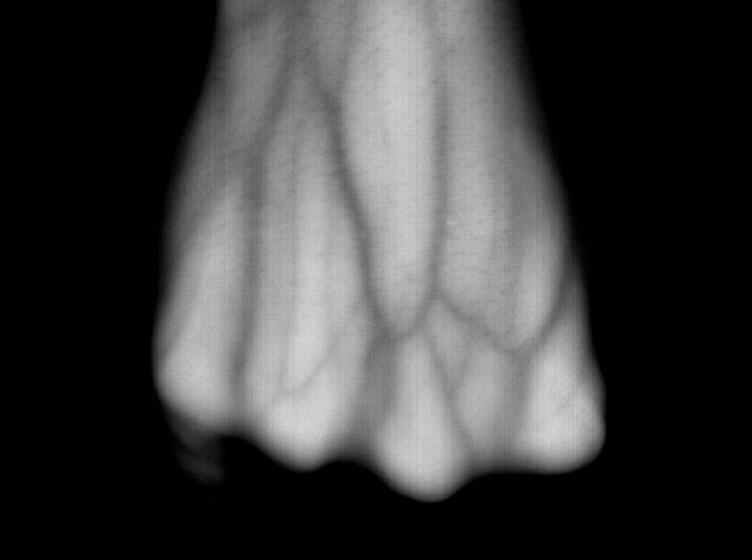Vein: (307, 68, 451, 346)
